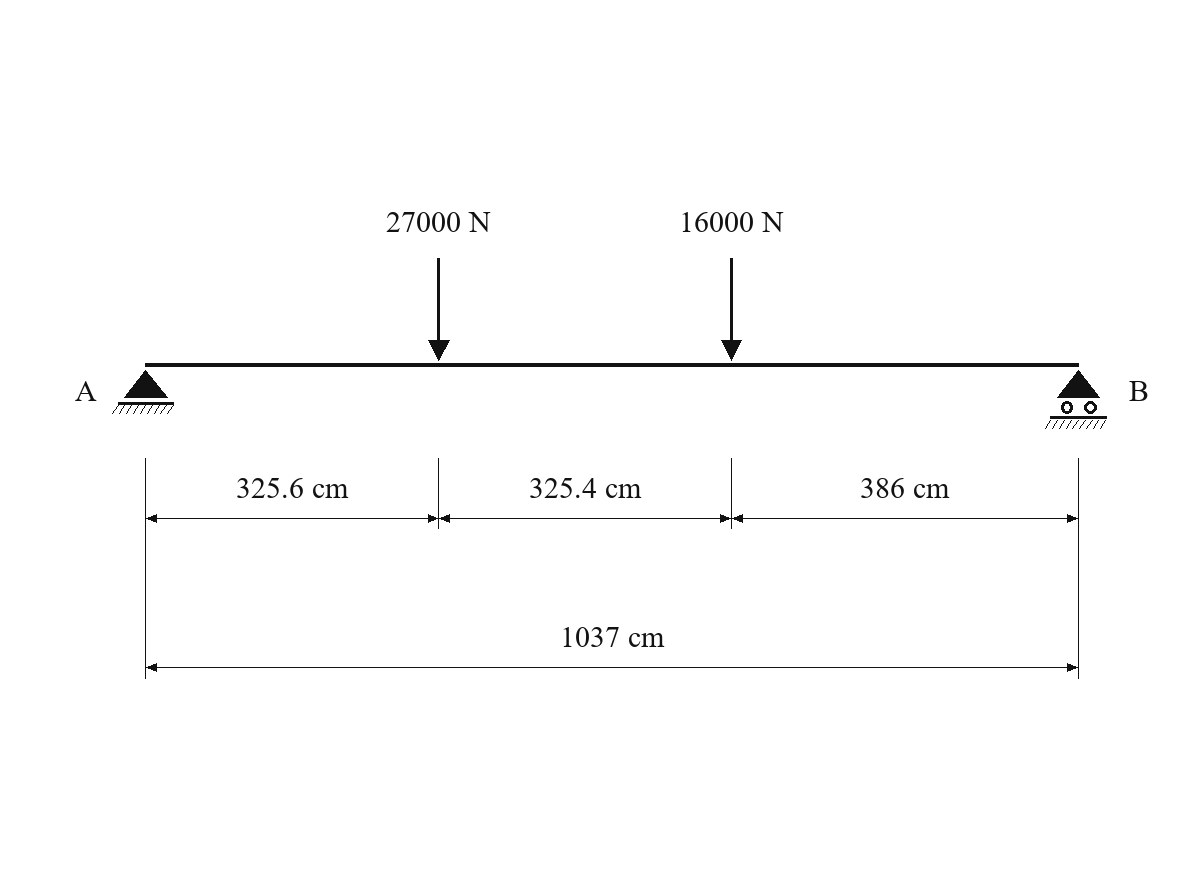pin_support: (112, 370, 174, 414)
point_load: (428, 258, 450, 361), (721, 258, 742, 361)
roller_support: (1045, 370, 1107, 429)
